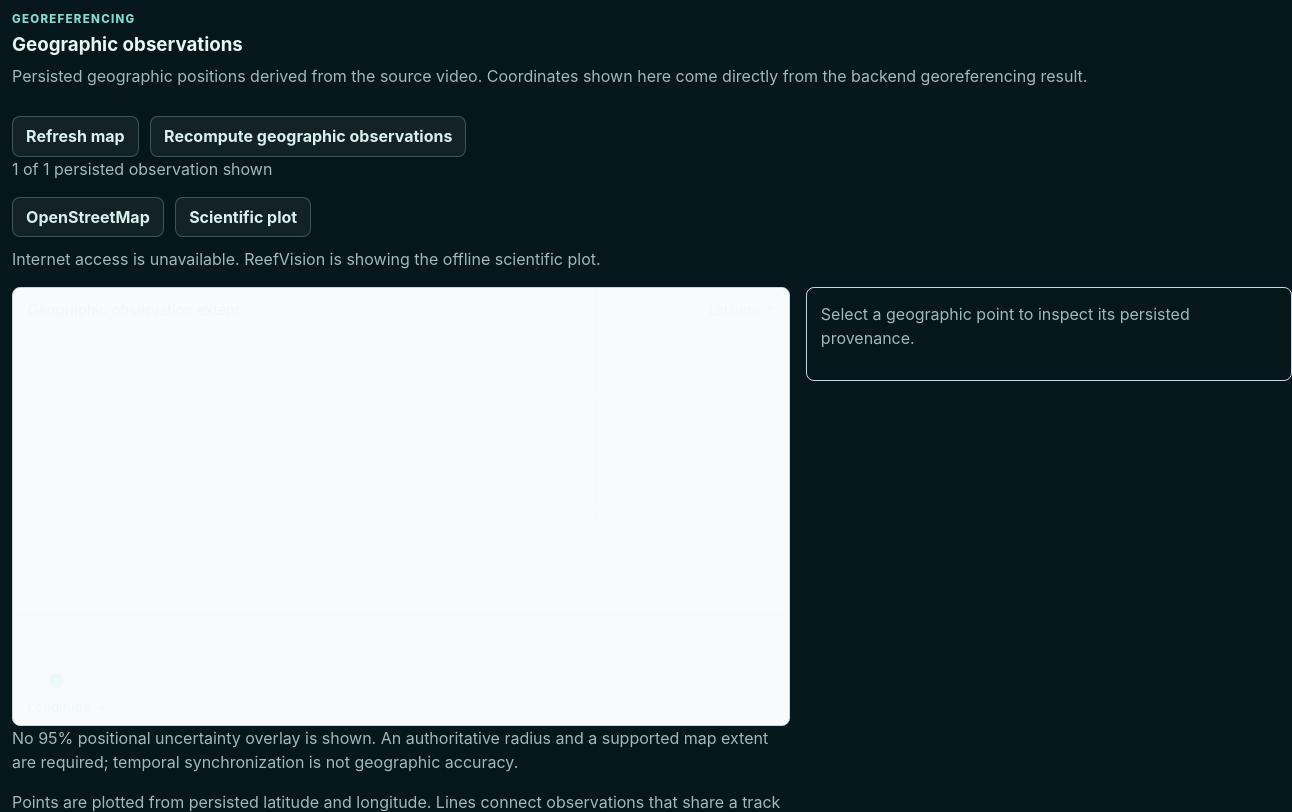
it: Georeferenced map class filters and recomputation › recomputes stale geographic observations and refreshes the map
What coordinates should you click on to do the following:
click the button "Recompute geographic observations"
I would click on:
 (308, 136)
Its box is [150,116,466,157].
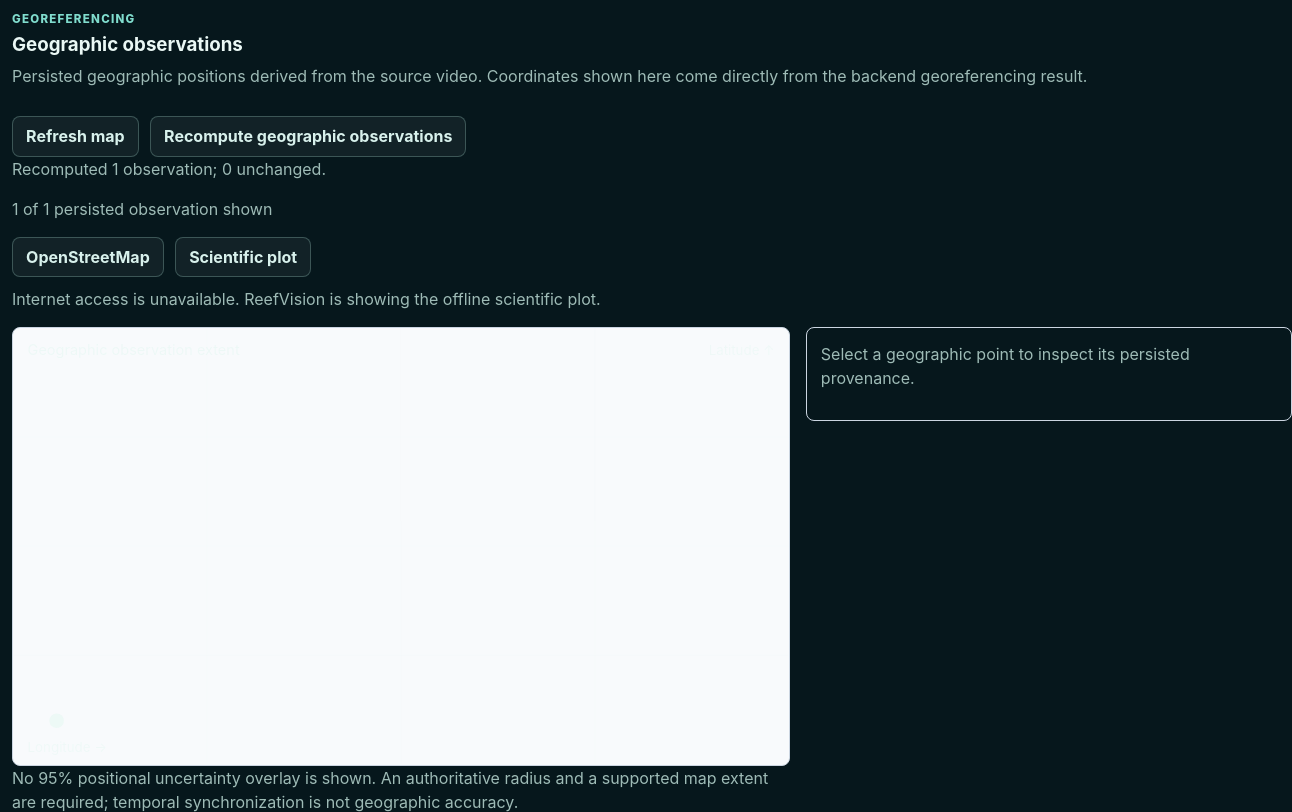
Expected: the text "Recomputed 1 observation; 0 unchanged." is shown, [12,159,326,179]
